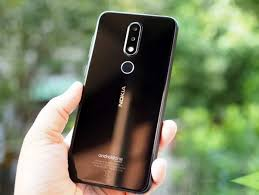nokia: (64, 9, 177, 193)
